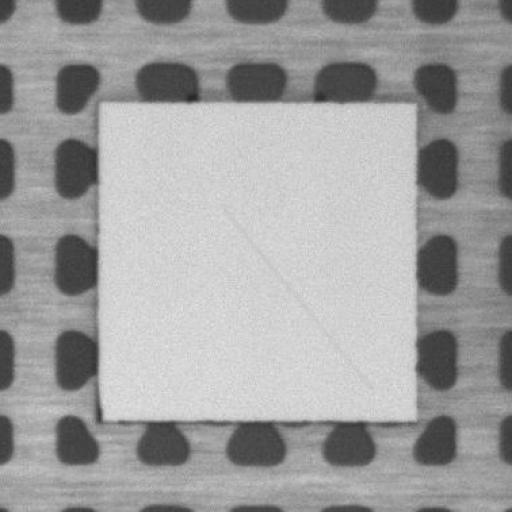DIE_CRACK: (221, 208, 369, 388)
